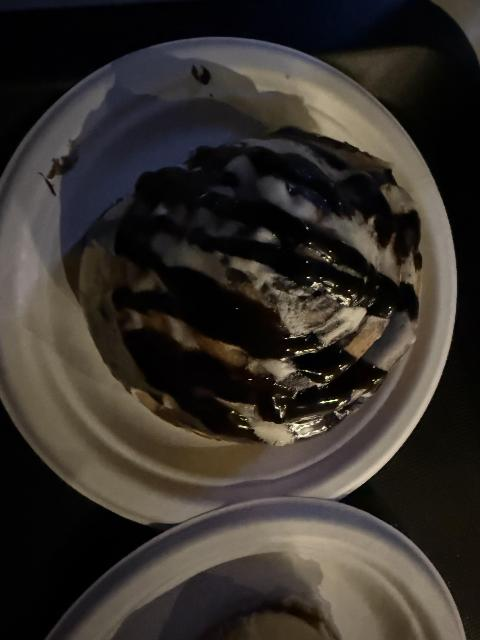Organik: (95, 148, 422, 414)
